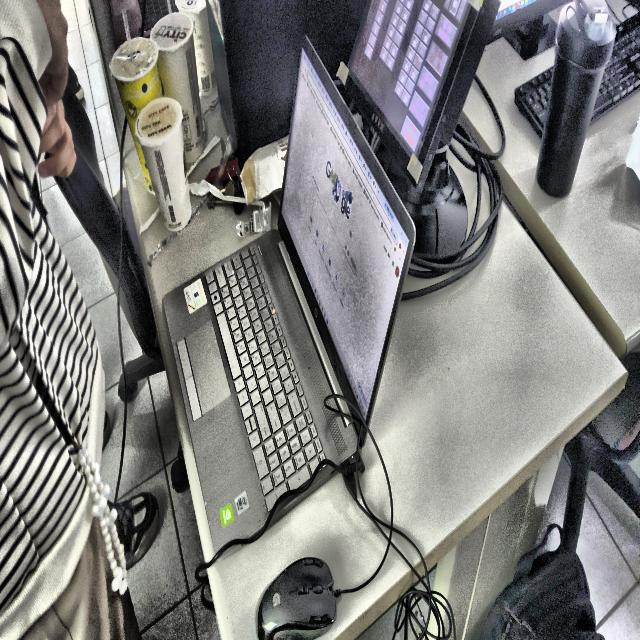Keyboard: (590, 15, 640, 123), (514, 67, 553, 136)
Laptop: (164, 41, 415, 546), (109, 0, 143, 47), (144, 0, 177, 37)
MOUSE: (256, 557, 336, 640)
Screen: (348, 0, 500, 254), (490, 0, 570, 60)
